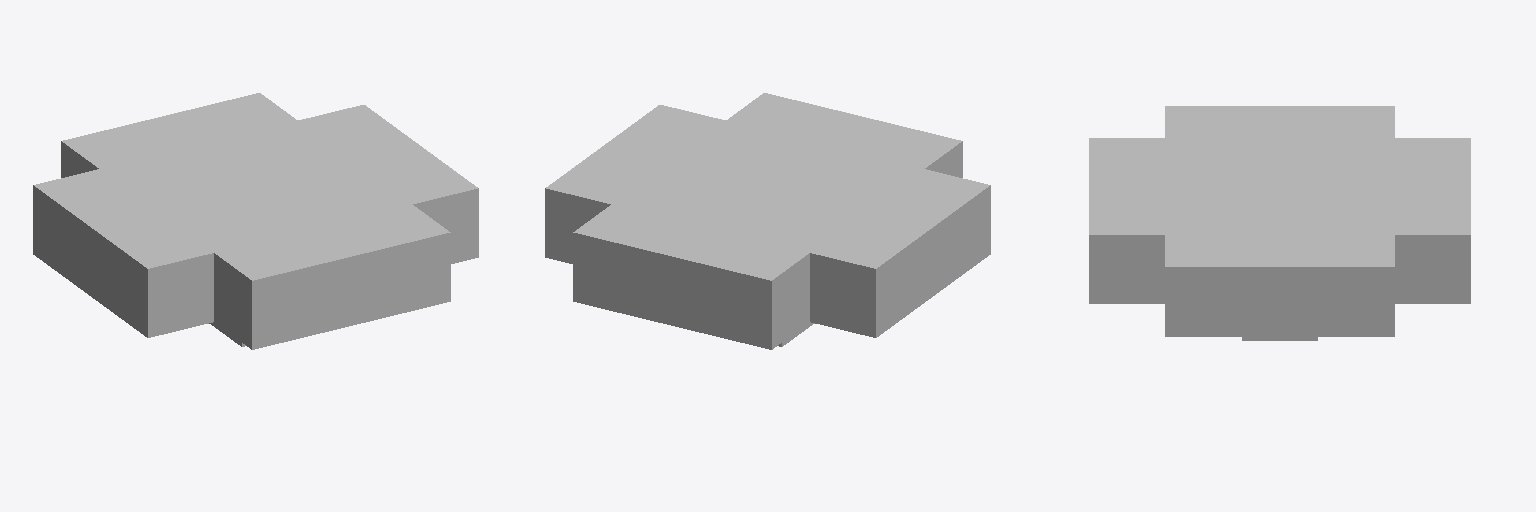
File: darkLilypads2-0.obj
3 renders of one model, left to right at view 1: azimuth 30°, elevation 25°; view 2: azimuth 150°, elevation 25°; view 3: azimuth 270°, elevation 25°, orthographic.
Visible parts, largest first — view 1: object 1; view 2: object 1; view 3: object 1.
Boxes of the visible parts, x1=… form: object 1: x1=33, y1=93, x2=478, y2=349; object 1: x1=545, y1=93, x2=990, y2=349; object 1: x1=1089, y1=106, x2=1470, y2=340.
Bounding box in the file's own units: 0.5 × 0.2 × 0.5.